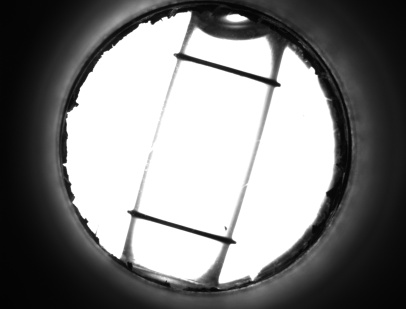line: (140, 211, 216, 243), (187, 53, 261, 84)
